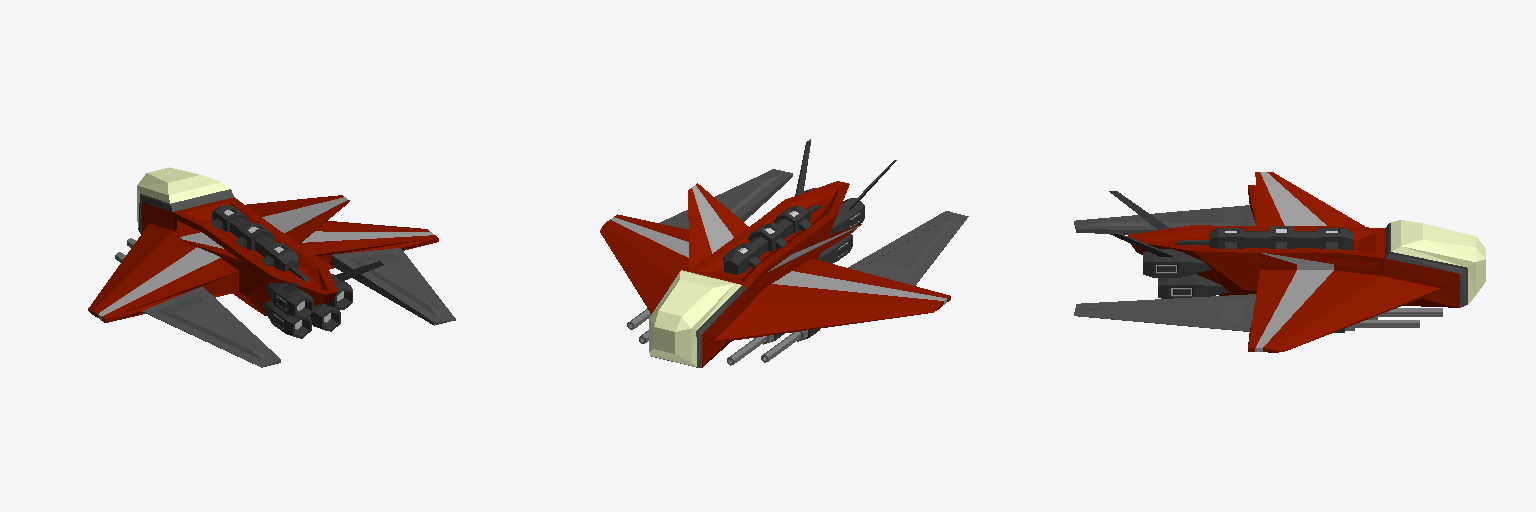
The picture shows the model from 3 angles: view 1: azimuth 30°, elevation 25°; view 2: azimuth 150°, elevation 25°; view 3: azimuth 270°, elevation 25°; orthographic projection.
Visible parts, largest first — view 1: Cube; view 2: Cube; view 3: Cube.
Boxes of the visible parts, x1,y1,x2,y2 form: Cube: [88, 167, 455, 367]; Cube: [600, 139, 968, 367]; Cube: [1074, 172, 1485, 352].
Size of the model in its own units: 4.67 by 1.18 by 4.98.
Materials: 2 (1 with a texture image).